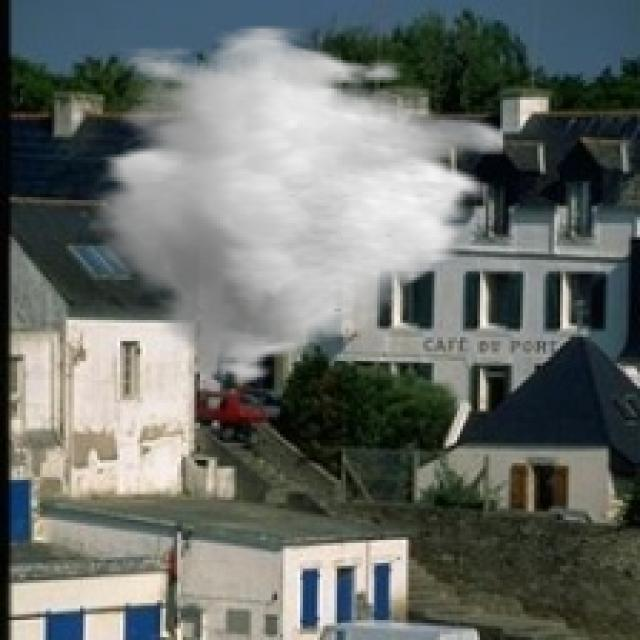smoke: (88, 26, 506, 391)
